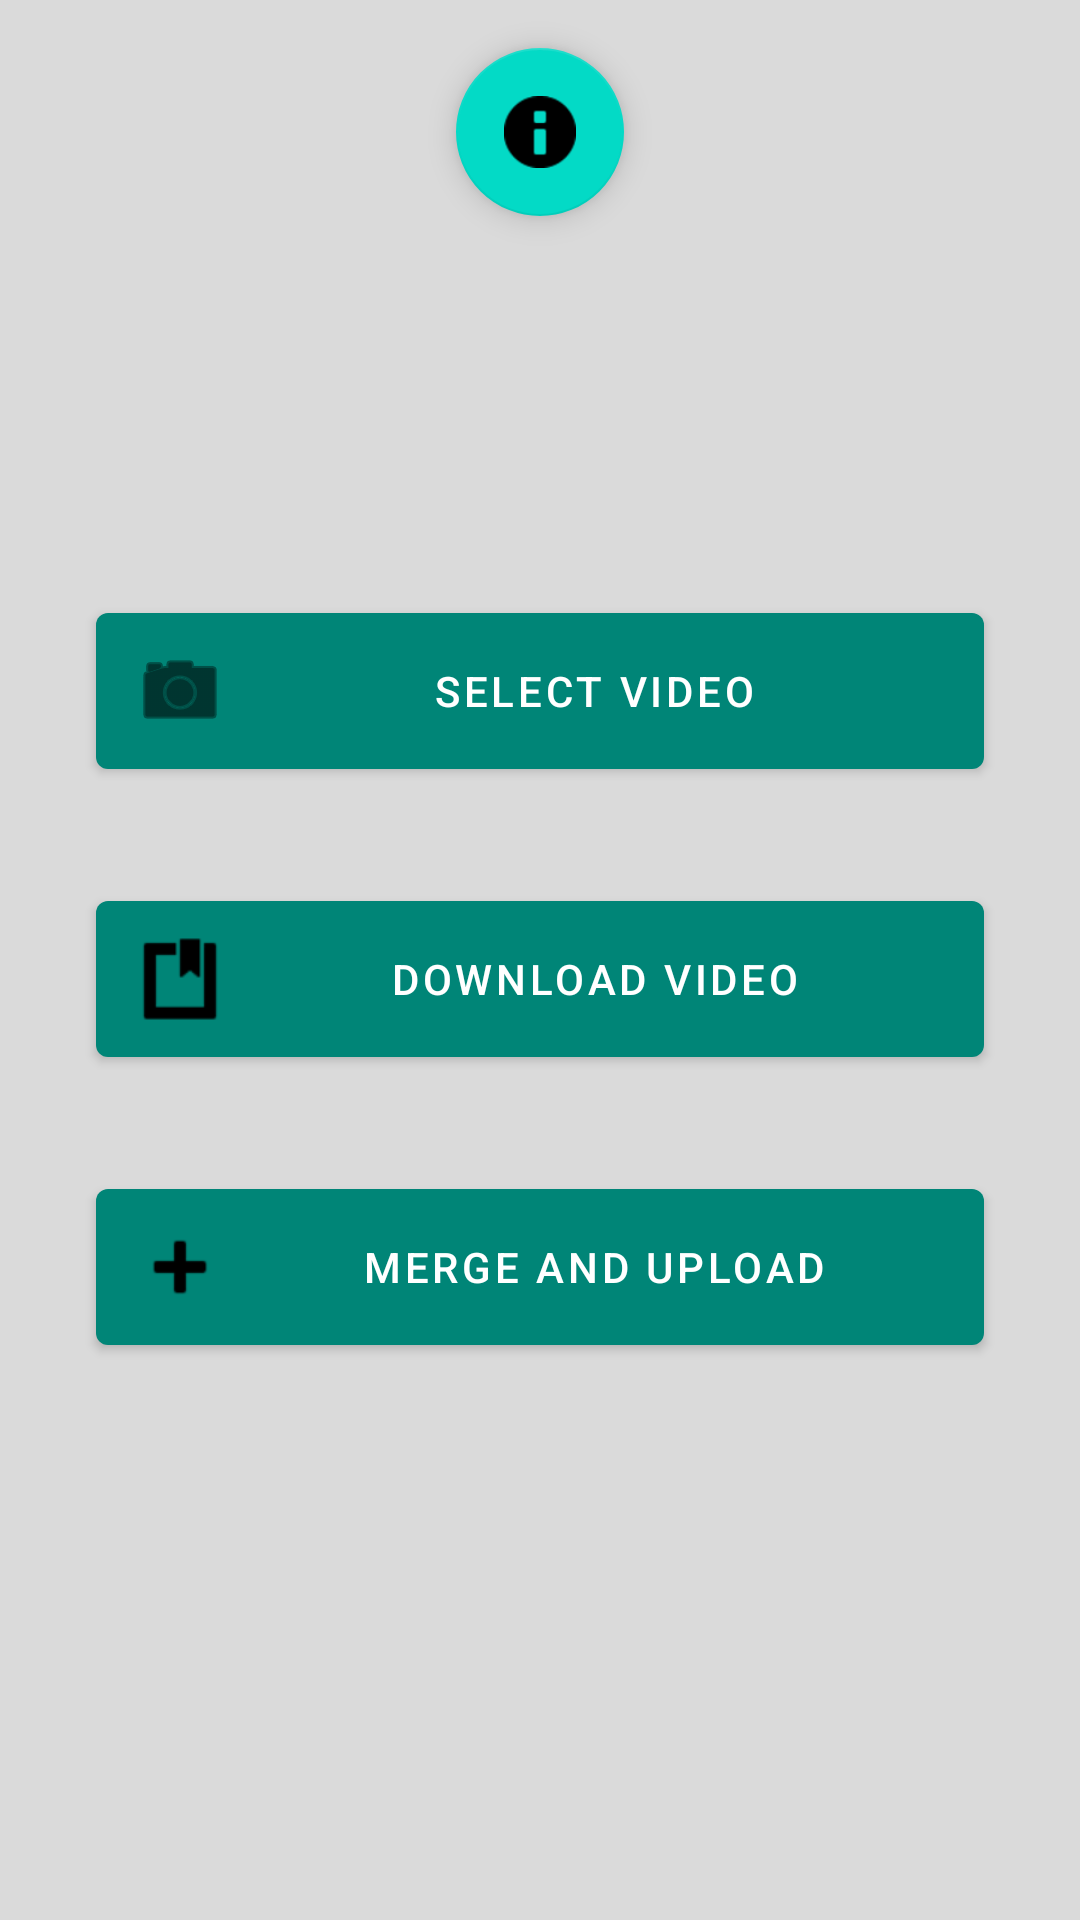

Point at icon controls on the screen. Image size 1080px×1920px, points as (x=x, y=y).
info: (x=540, y=132)
